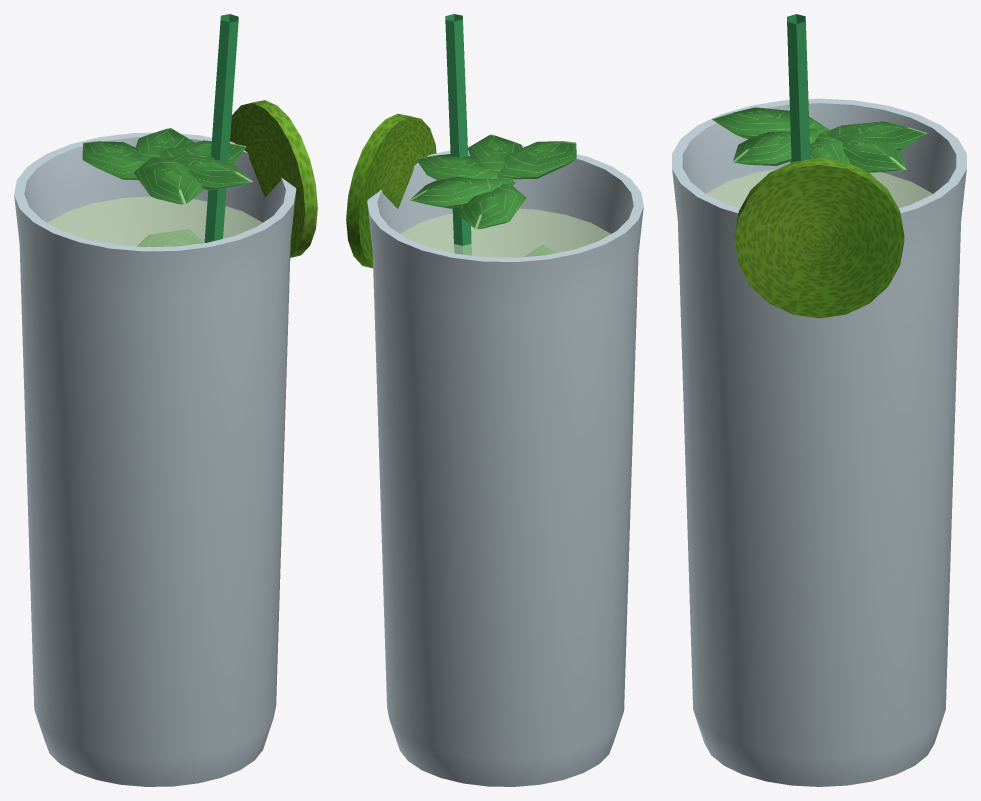
Rendered from cocktail_mojito_mint_highball.glb.
3 views of the same model, side by side, from view 1: azimuth 30°, elevation 25°; view 2: azimuth 150°, elevation 25°; view 3: azimuth 270°, elevation 25° (orthographic). The views are drawn at different scales.
Parts seen in each view (by area): view 1: cocktail_mojito_mint_highball; view 2: cocktail_mojito_mint_highball; view 3: cocktail_mojito_mint_highball.
Part boxes in pixels (x1=…): cocktail_mojito_mint_highball: x1=14, y1=14, x2=317, y2=786; cocktail_mojito_mint_highball: x1=346, y1=14, x2=643, y2=786; cocktail_mojito_mint_highball: x1=672, y1=14, x2=966, y2=786.
Bounding box in the file's own units: 0.077 × 0.2152 × 0.0764.
6 materials, 2 textured.
